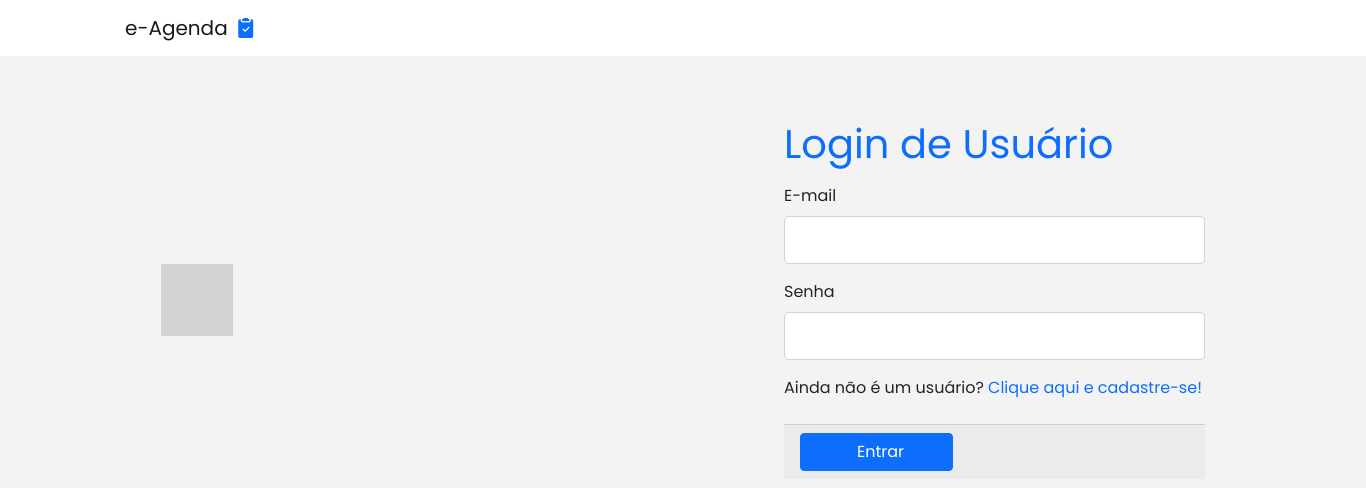
Test: Processo de Login do Usuário › Deve validar email vazio
Step 1. Focus the field with test id "email" → (995, 240), box [784, 216, 1205, 264]
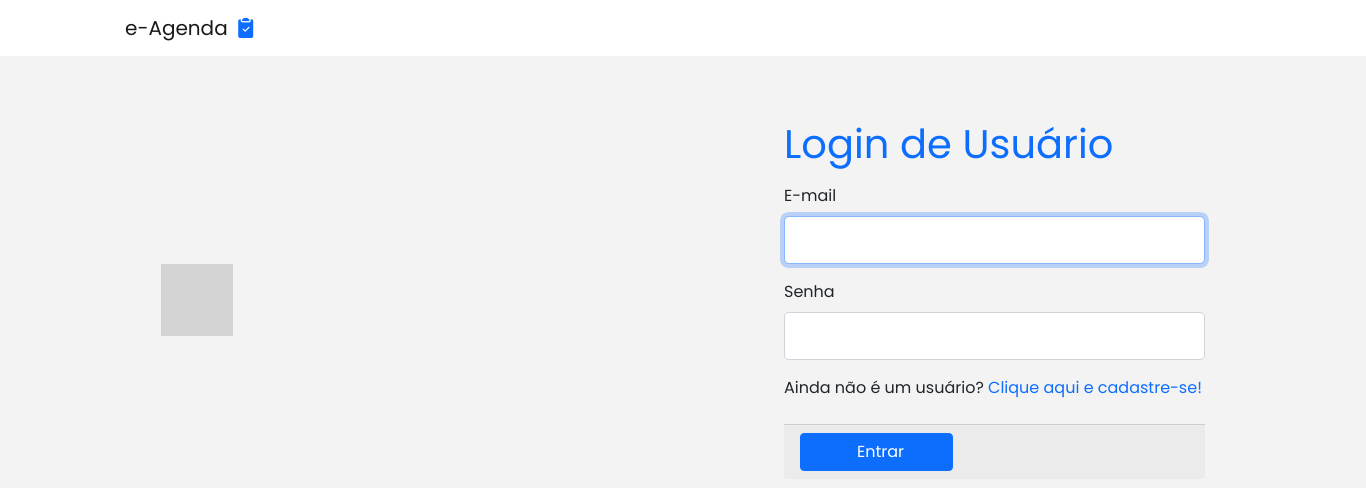
Step 2. Focus the password field with test id "senha" → (995, 336), box [784, 312, 1205, 360]
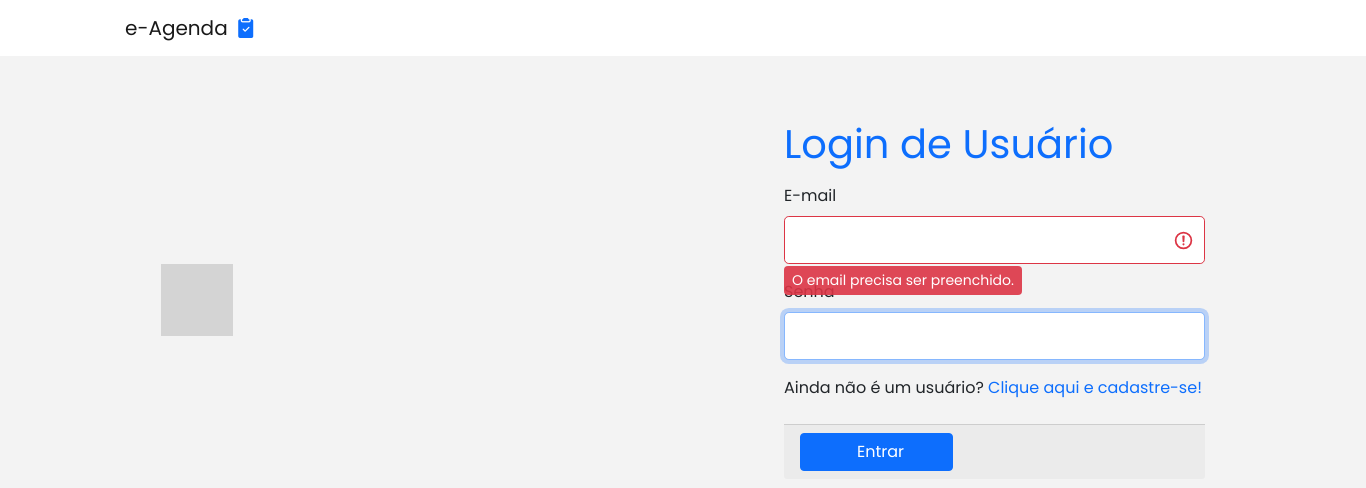
Expected: the text "O email precisa ser preenchido." is shown, [792, 270, 1014, 290]
